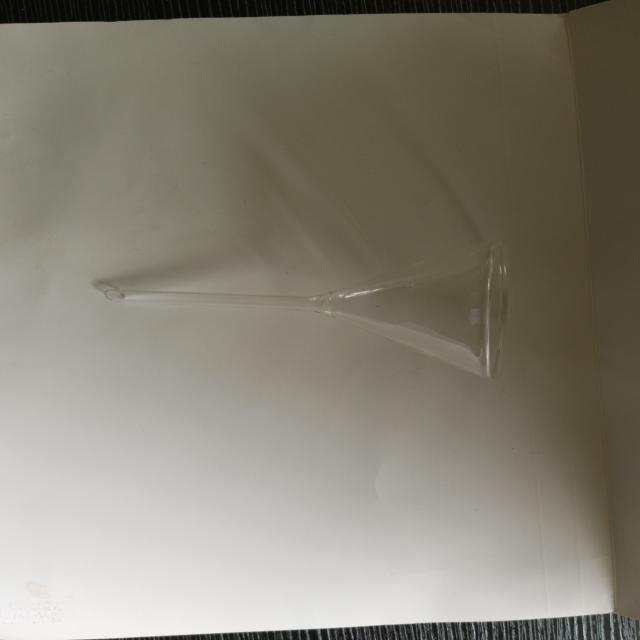funnel: (99, 235, 519, 382)
